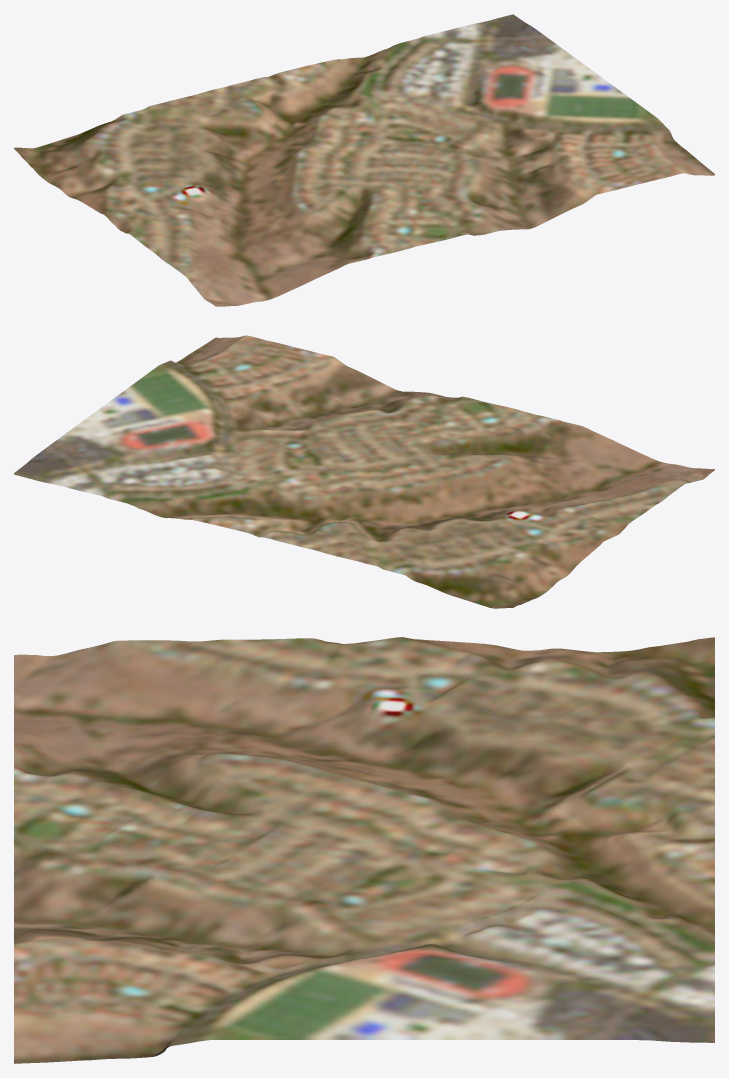
The model's file is terrain_r4_c3.glb.
3 renders of one model, top to bottom at view 1: azimuth 30°, elevation 25°; view 2: azimuth 150°, elevation 25°; view 3: azimuth 270°, elevation 25°, orthographic. The views are drawn at different scales.
Parts seen in each view (by area): view 1: terrain_r4_c3_lod0; view 2: terrain_r4_c3_lod0; view 3: terrain_r4_c3_lod0.
Part boxes in pixels (x1,y1,x2,y2): terrain_r4_c3_lod0: [14, 14, 714, 306]; terrain_r4_c3_lod0: [14, 335, 714, 608]; terrain_r4_c3_lod0: [14, 637, 714, 1063].
Bounding box in the file's own units: 1125 × 66.47 × 787.
Materials: 1 (1 with a texture image).
